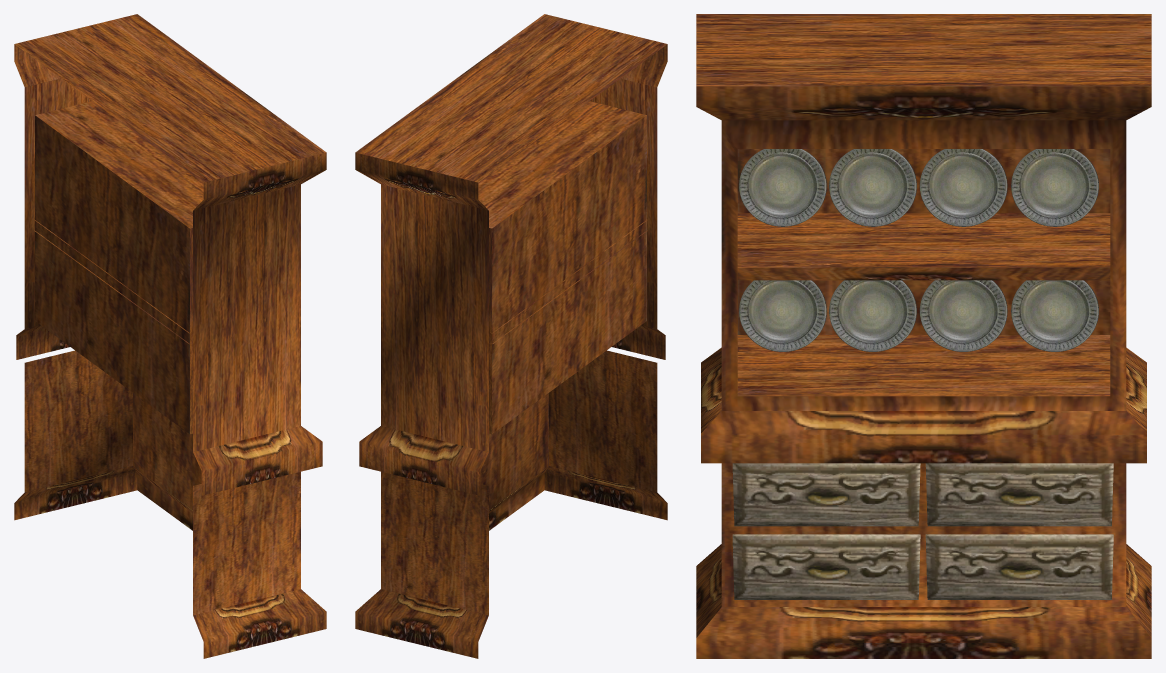
The model's file is INST_LT_CHINACABINET.obj.
3 renders of one model, left to right at view 1: azimuth 30°, elevation 25°; view 2: azimuth 150°, elevation 25°; view 3: azimuth 270°, elevation 25°, orthographic. The views are drawn at different scales.
Parts seen in each view (by area): view 1: _china_cabinet_; view 2: _china_cabinet_; view 3: _china_cabinet_.
Boxes of the visible parts, bbox=[...] form: _china_cabinet_: bbox=[14, 14, 326, 658]; _china_cabinet_: bbox=[355, 14, 667, 658]; _china_cabinet_: bbox=[696, 14, 1151, 658].
Bounding box in the file's own units: 47.98 × 177 × 128.
